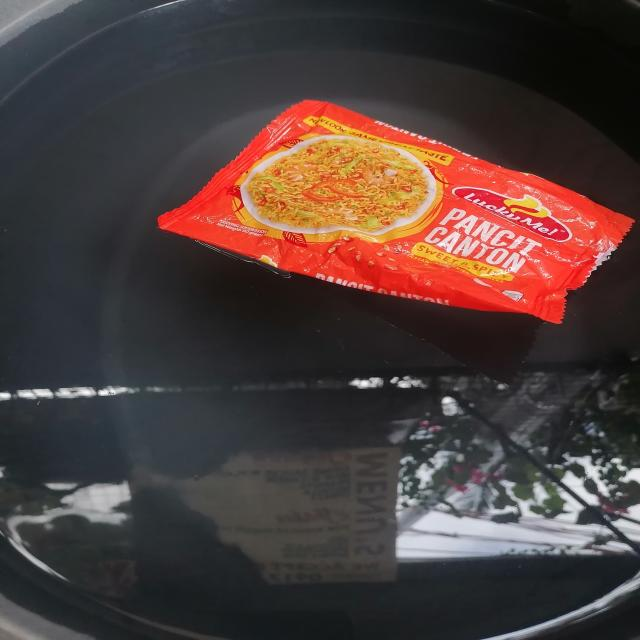Plastic Wrapper: (136, 83, 640, 334)
